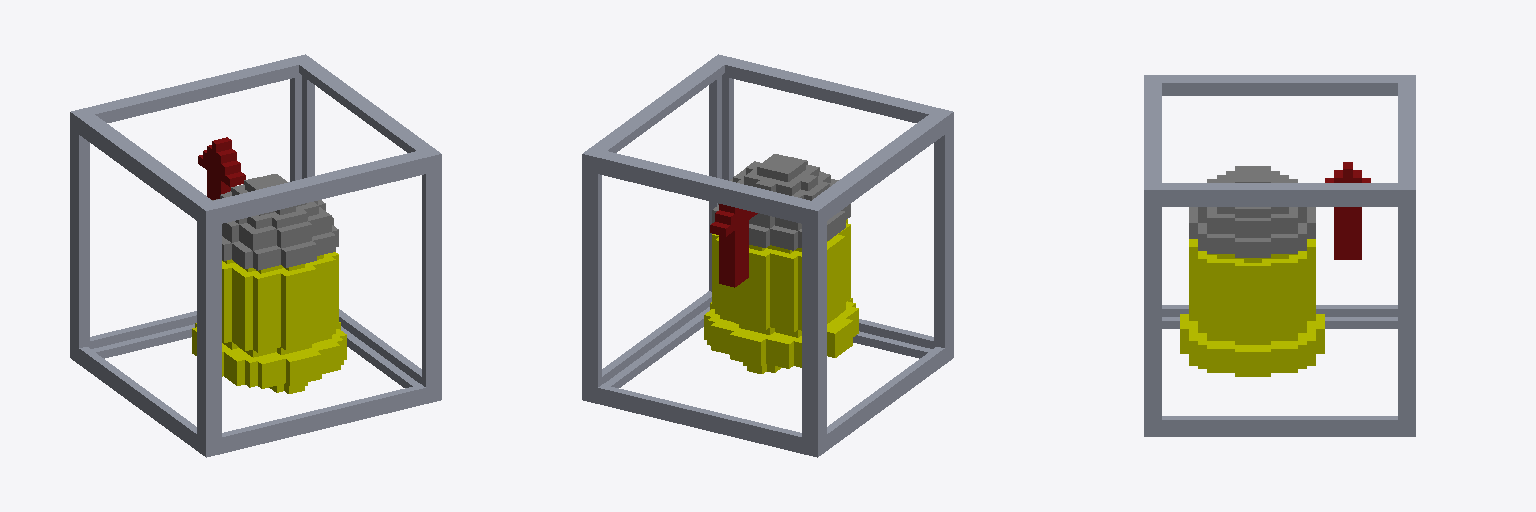
The picture shows the model from 3 angles: view 1: azimuth 30°, elevation 25°; view 2: azimuth 150°, elevation 25°; view 3: azimuth 270°, elevation 25°; orthographic projection.
Parts seen in each view (by area): view 1: object 1; view 2: object 1; view 3: object 1.
Part boxes in pixels (x1,y1,x2,y2): object 1: (70,54,441,457); object 1: (582,54,953,457); object 1: (1144,75,1415,436).
Bounding box in the file's own units: 3 × 3 × 3.
Materials: 1 (1 with a texture image).